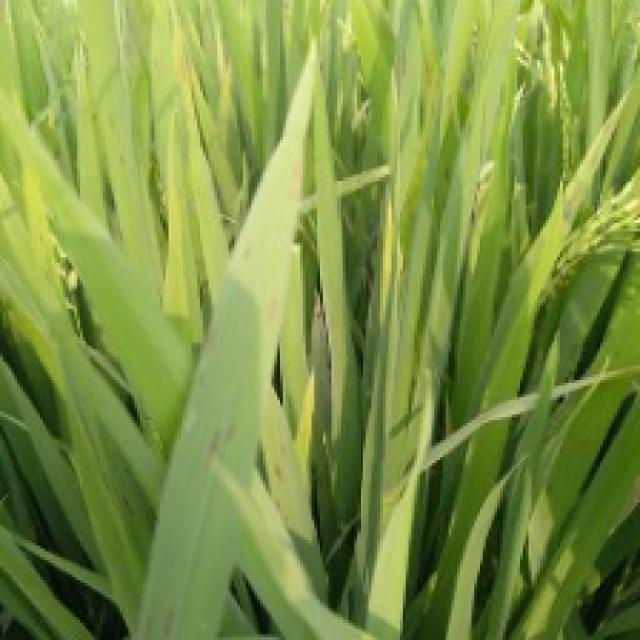Rice___Brown_Spot: (135, 35, 315, 637)
